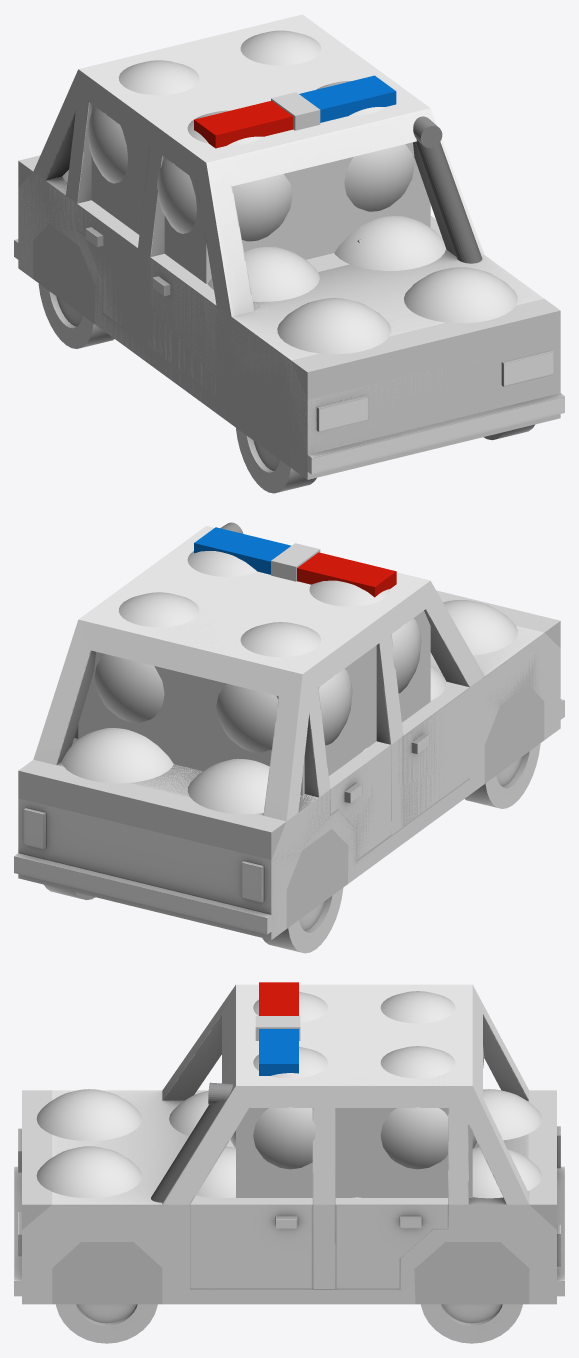
Rendered from car.glb.
The picture shows the model from 3 angles, top to bottom: view 1: azimuth 30°, elevation 25°; view 2: azimuth 150°, elevation 25°; view 3: azimuth 270°, elevation 25°; orthographic projection. The views are drawn at different scales.
Parts seen in each view (by area): view 1: body, Cube.006, Cube.002, Sphere.002, Sphere.003, Sphere, Sphere.010, Sphere.007, door_2, Sphere.001, Sphere.011, Cylinder (+8 smaller); view 2: body, Cube.006, Cube.002, Sphere.007, door_2, Sphere.004, Sphere.005, door_4, Sphere.006, Sphere.002, Sphere.003, Cube (+5 smaller); view 3: body, Cube.006, Cube.002, door_1, door_3, Sphere.004, Sphere.001, Sphere, Sphere.003, Cylinder.001, wheel_fl, Sphere.006 (+9 smaller).
Boxes of the visible parts, x1=… form: body: x1=14, y1=14, x2=564, y2=477; Cube.006: x1=18, y1=155, x2=560, y2=479; Cube.002: x1=83, y1=69, x2=430, y2=283; Sphere.002: x1=157, y1=110, x2=292, y2=241; Sphere.003: x1=277, y1=298, x2=391, y2=398; Sphere: x1=404, y1=267, x2=517, y2=368; Sphere.010: x1=334, y1=216, x2=445, y2=270; Sphere.007: x1=88, y1=60, x2=199, y2=183; door_2: x1=150, y1=257, x2=216, y2=394; Sphere.001: x1=316, y1=81, x2=414, y2=211; Sphere.011: x1=208, y1=247, x2=319, y2=301; Cylinder: x1=415, y1=139, x2=482, y2=263; body: x1=14, y1=526, x2=564, y2=939; Cube.006: x1=18, y1=590, x2=560, y2=939; Cube.002: x1=78, y1=600, x2=430, y2=795; Sphere.007: x1=216, y1=622, x2=352, y2=752; door_2: x1=403, y1=687, x2=469, y2=824; Sphere.004: x1=94, y1=592, x2=199, y2=722; Sphere.005: x1=61, y1=728, x2=173, y2=783; door_4: x1=330, y1=745, x2=390, y2=860; Sphere.006: x1=187, y1=758, x2=269, y2=814; Sphere.002: x1=309, y1=580, x2=421, y2=693; Sphere.003: x1=443, y1=600, x2=517, y2=655; Cube: x1=297, y1=552, x2=396, y2=597; body: x1=14, y1=984, x2=564, y2=1304; Cube.006: x1=22, y1=1090, x2=556, y2=1304; Cube.002: x1=236, y1=1076, x2=472, y2=1197; door_1: x1=190, y1=1204, x2=312, y2=1288; door_3: x1=335, y1=1204, x2=447, y2=1288; Sphere.004: x1=380, y1=1046, x2=476, y2=1169; Sphere.001: x1=230, y1=1046, x2=327, y2=1169; Sphere: x1=36, y1=1146, x2=141, y2=1198; Sphere.003: x1=36, y1=1089, x2=141, y2=1141; Cylinder.001: x1=421, y1=1304, x2=522, y2=1343; wheel_fl: x1=56, y1=1304, x2=157, y2=1343; Sphere.006: x1=483, y1=1089, x2=541, y2=1140.
Bounding box in the file's own units: 1.28 × 1.33 × 2.49.
Materials: 6 (2 with a texture image).
